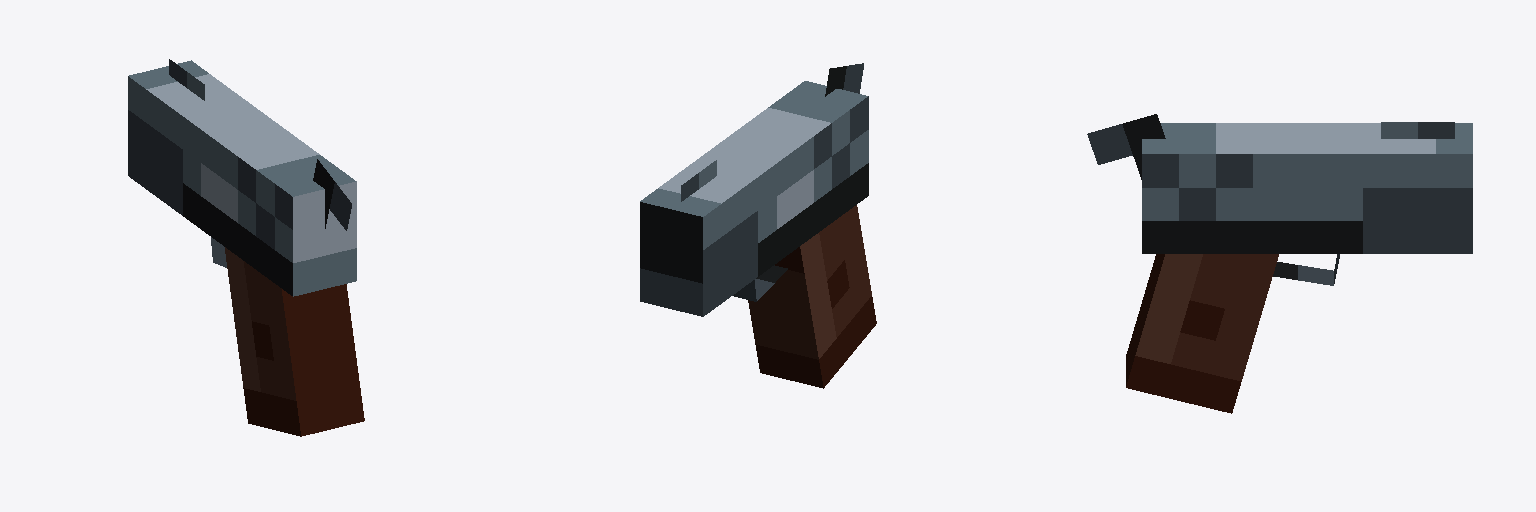
3 renders of one model, left to right at view 1: azimuth 30°, elevation 25°; view 2: azimuth 150°, elevation 25°; view 3: azimuth 270°, elevation 25°, orthographic.
Visible parts, largest first — view 1: barrel, grip, trigger, sights; view 2: barrel, grip, trigger, sights; view 3: barrel, grip, trigger, sights.
Boxes of the visible parts, box(x1,y1,x2,y2) form: barrel: box(128, 60, 356, 296); grip: box(225, 247, 364, 436); trigger: box(211, 159, 351, 267); sights: box(169, 59, 204, 100); barrel: box(640, 81, 868, 316); grip: box(748, 205, 876, 388); trigger: box(733, 63, 863, 301); sights: box(681, 160, 716, 201); barrel: box(1142, 123, 1472, 253); grip: box(1126, 254, 1278, 413); trigger: box(1087, 114, 1339, 285); sights: box(1381, 122, 1454, 138).
Size of the model in its own units: 0.125 by 0.5343 by 0.6565.
1 materials, 1 textured.